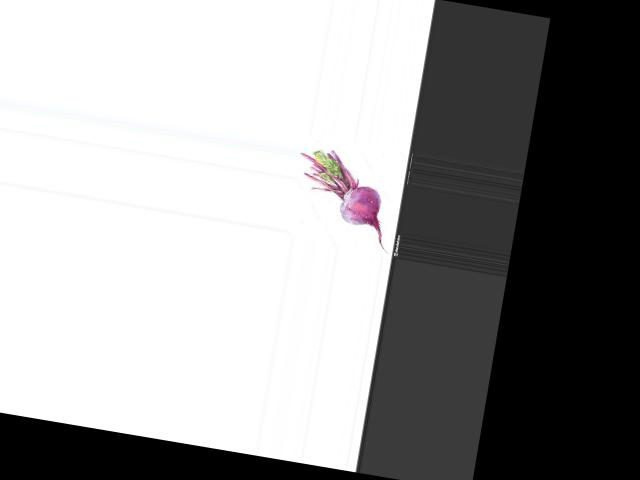beet: (286, 145, 402, 252)
